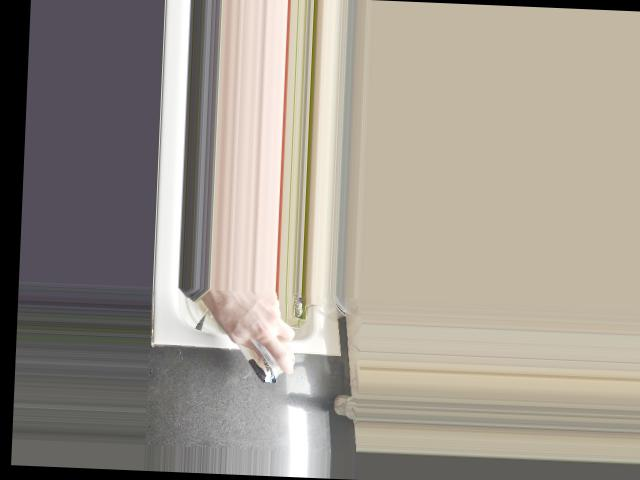cheese: (223, 294, 293, 387)
